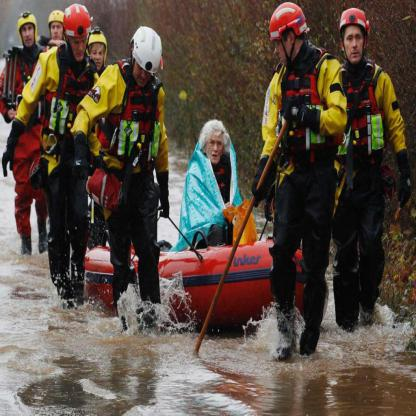face: (133, 49, 154, 88), (344, 25, 365, 63), (276, 27, 295, 67), (208, 130, 224, 165), (71, 29, 87, 61), (90, 42, 106, 72), (22, 21, 36, 49), (51, 20, 64, 44)
